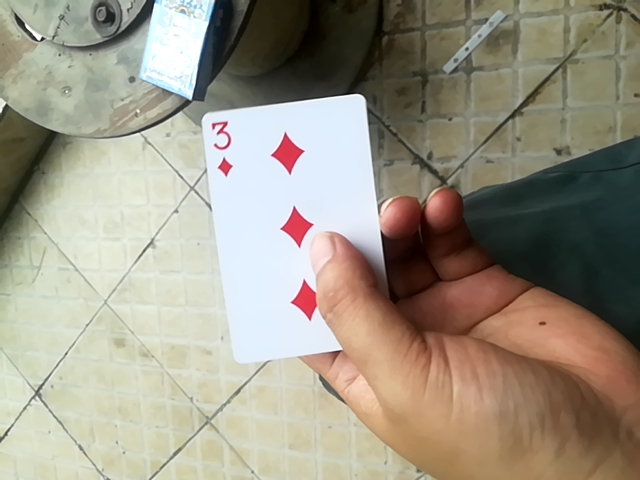fk 3: (194, 94, 391, 370)
